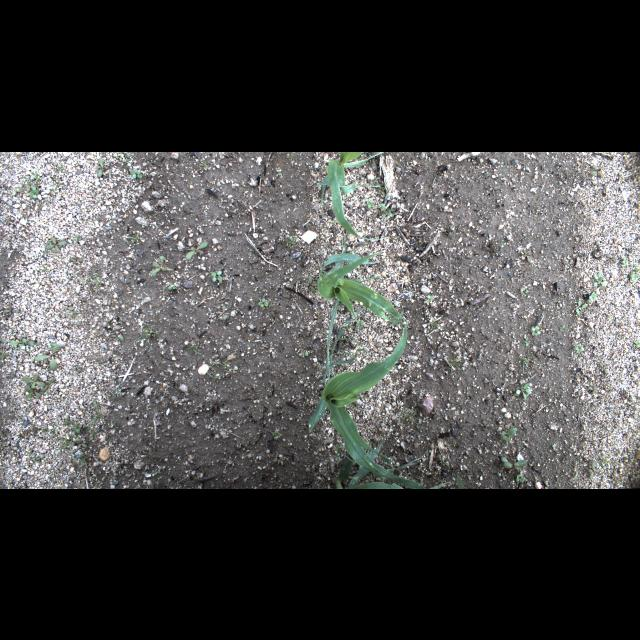crop: (306, 320, 428, 488), (317, 235, 405, 382), (314, 151, 388, 239), (337, 439, 448, 488)
weed: (34, 344, 64, 372), (138, 317, 160, 351), (207, 356, 230, 386), (152, 255, 172, 277), (91, 399, 107, 426), (502, 456, 526, 474), (186, 241, 208, 259), (448, 354, 466, 376), (512, 382, 532, 400), (522, 354, 540, 374), (46, 236, 68, 252), (8, 338, 32, 352), (22, 374, 44, 388), (302, 274, 318, 292), (587, 458, 601, 478), (501, 429, 517, 445), (186, 340, 204, 354), (590, 162, 604, 178), (593, 272, 607, 286), (575, 300, 587, 316), (96, 156, 104, 177), (128, 168, 144, 178), (210, 270, 222, 282), (270, 428, 282, 440), (256, 297, 270, 307), (74, 438, 88, 448), (530, 325, 540, 339), (573, 342, 585, 353), (29, 184, 38, 198), (587, 290, 597, 302), (168, 282, 178, 290)
